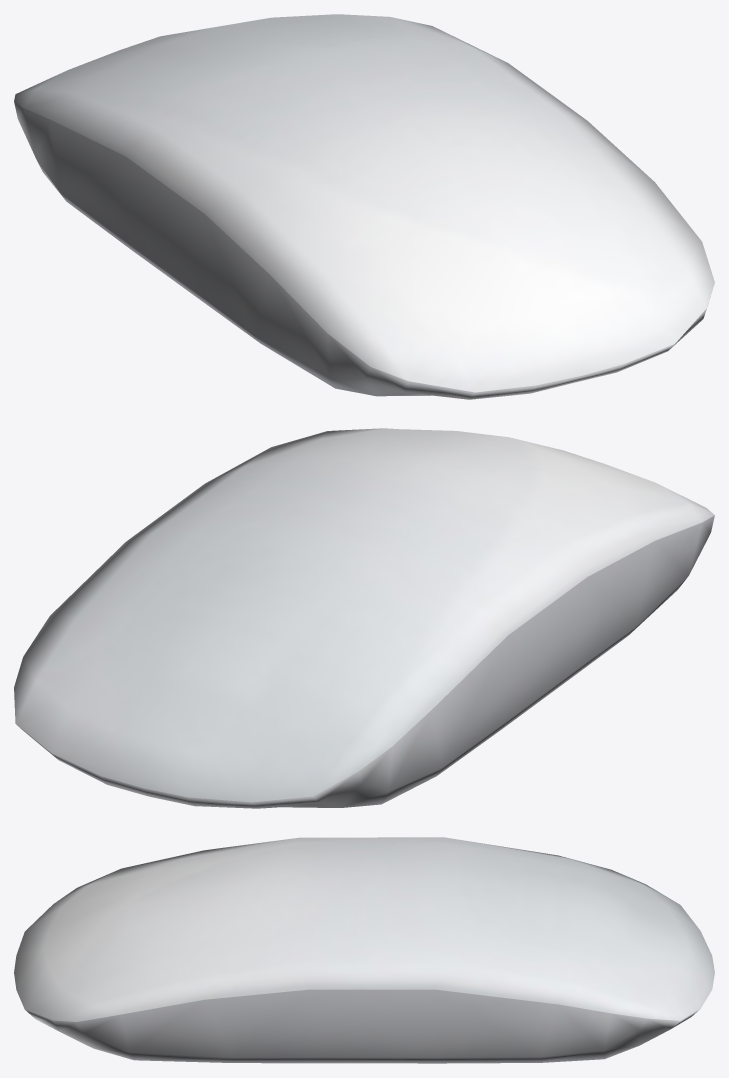
Rendered from mouse.gltf.
The picture shows the model from 3 angles, top to bottom: view 1: azimuth 30°, elevation 25°; view 2: azimuth 150°, elevation 25°; view 3: azimuth 270°, elevation 25°; orthographic projection. The views are drawn at different scales.
Visible parts, largest first — view 1: mouse_cropped:mouse1:PIV; view 2: mouse_cropped:mouse1:PIV; view 3: mouse_cropped:mouse1:PIV.
Part boxes in pixels (x1,y1,x2,y2): mouse_cropped:mouse1:PIV: (14, 14, 714, 399); mouse_cropped:mouse1:PIV: (14, 428, 714, 808); mouse_cropped:mouse1:PIV: (14, 837, 714, 1063).
Bounding box in the file's own units: 0.0693 × 0.026 × 0.1374.
Materials: 1 (1 with a texture image).
